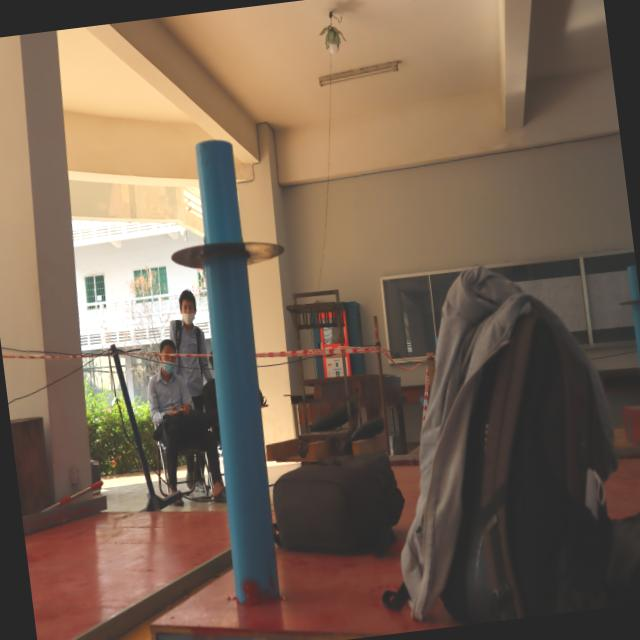pole: (159, 130, 295, 356)
